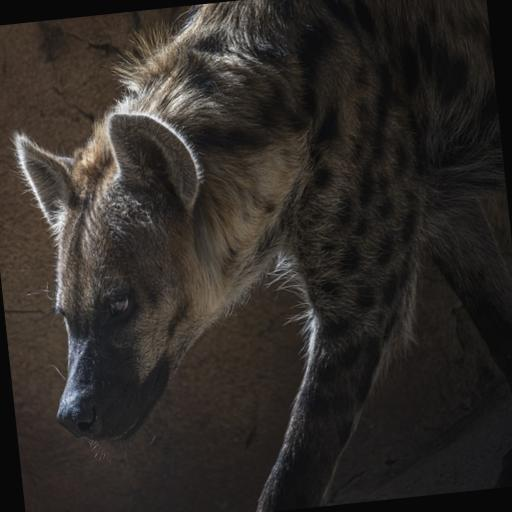hyenas: (0, 0, 432, 481)
